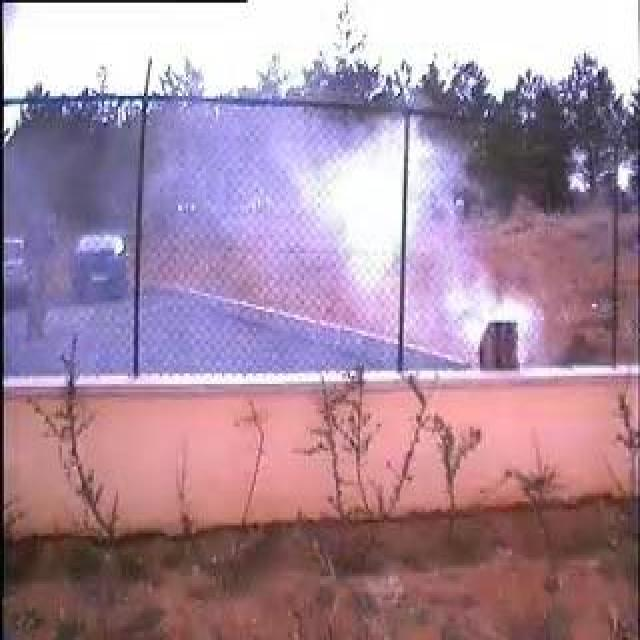Smoke: (166, 97, 548, 367)
